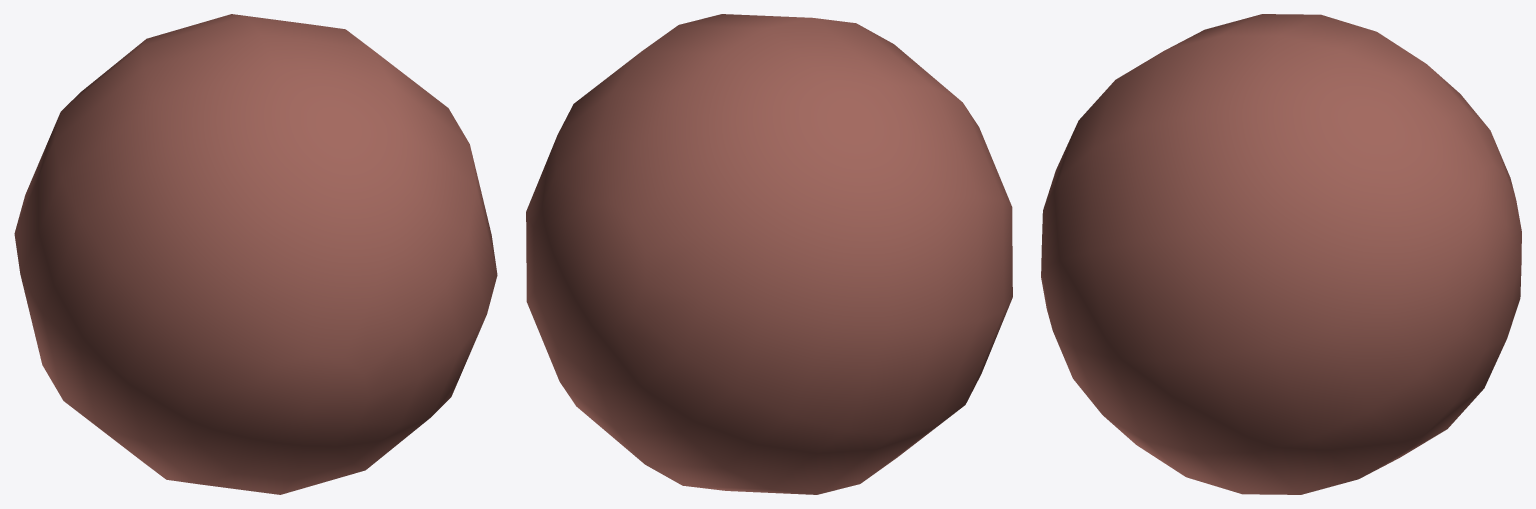
The model's file is mixamo_humanoid_joint_rightHandMiddle2.fbx.
The picture shows the model from 3 angles, left to right: view 1: azimuth 30°, elevation 25°; view 2: azimuth 150°, elevation 25°; view 3: azimuth 270°, elevation 25°; orthographic projection. The views are drawn at different scales.
Parts seen in each view (by area): view 1: joint_RightHandMiddle2; view 2: joint_RightHandMiddle2; view 3: joint_RightHandMiddle2.
Part boxes in pixels (x1,y1,x2,y2): joint_RightHandMiddle2: (14,14,497,494); joint_RightHandMiddle2: (526,14,1012,494); joint_RightHandMiddle2: (1041,14,1521,494).
Bounding box in the file's own units: 1.95 × 1.95 × 1.93.
